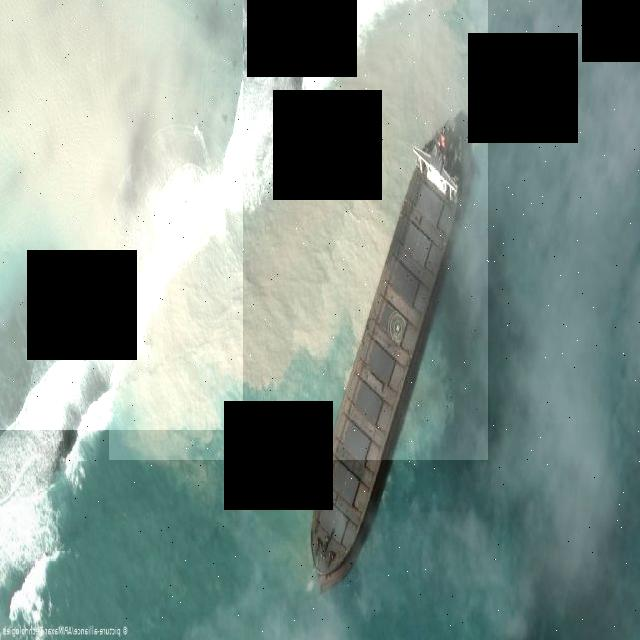oil spill: (110, 1, 488, 460), (0, 0, 243, 430)
